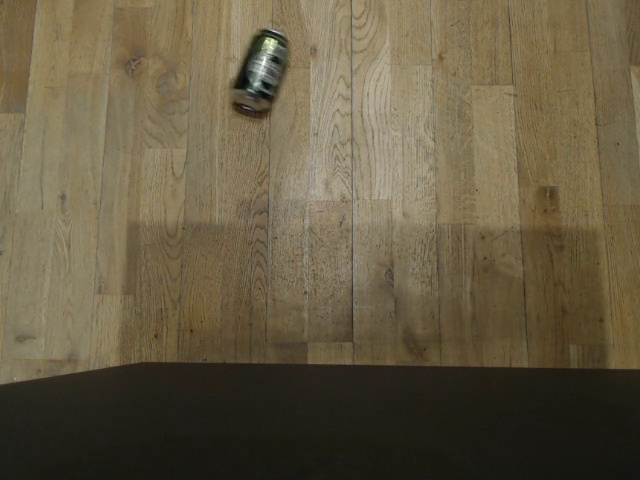beer: (228, 26, 289, 116)
